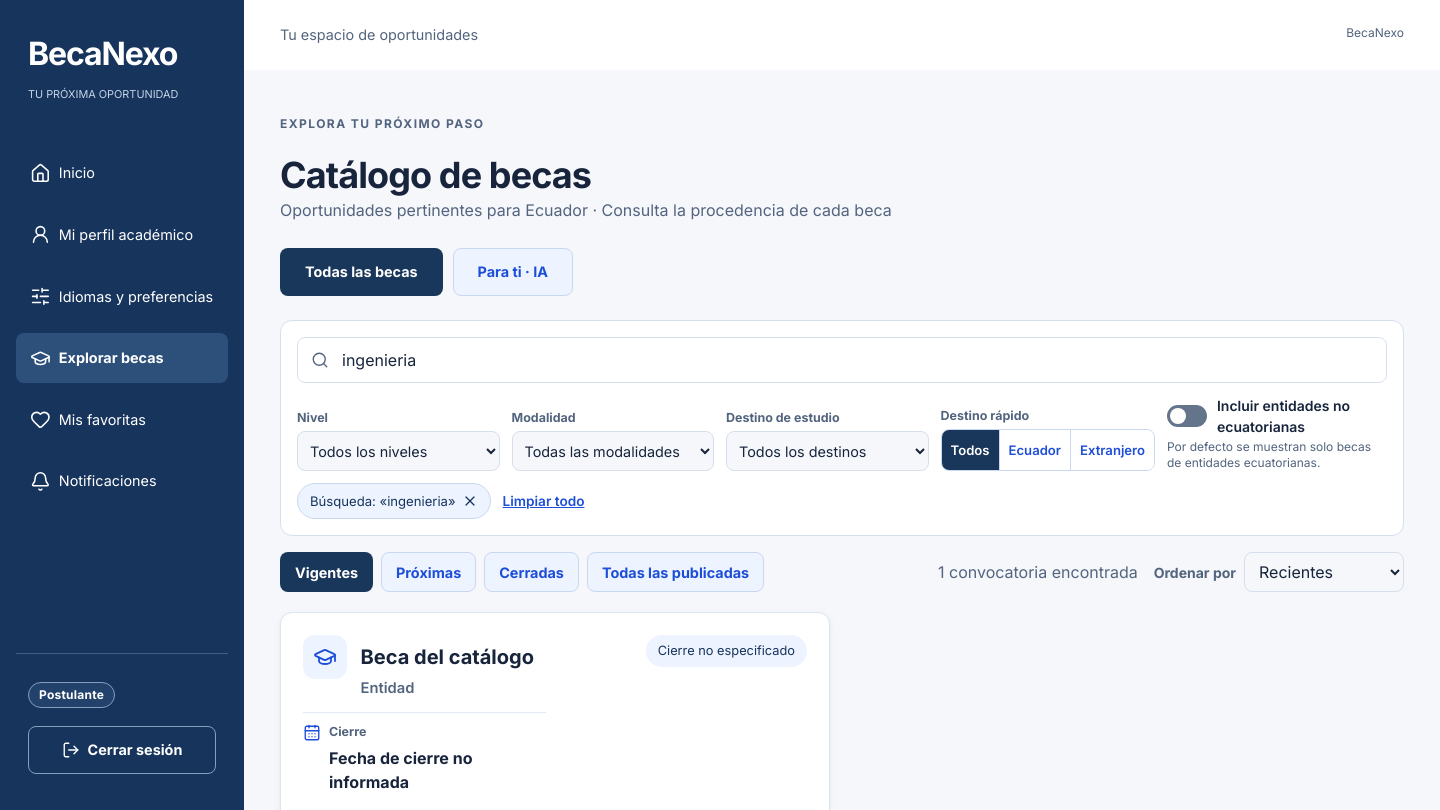
Test case: respeta el orden recibido y distingue afinidad pendiente de elegibilidad desconocida
This screenshot has width=1440, height=810.
Expected: the heading "Beca del catálogo" is shown, [361, 645, 534, 669]
Click the button "Para ti · IA": coordinates (513, 272) [453, 248, 573, 296]
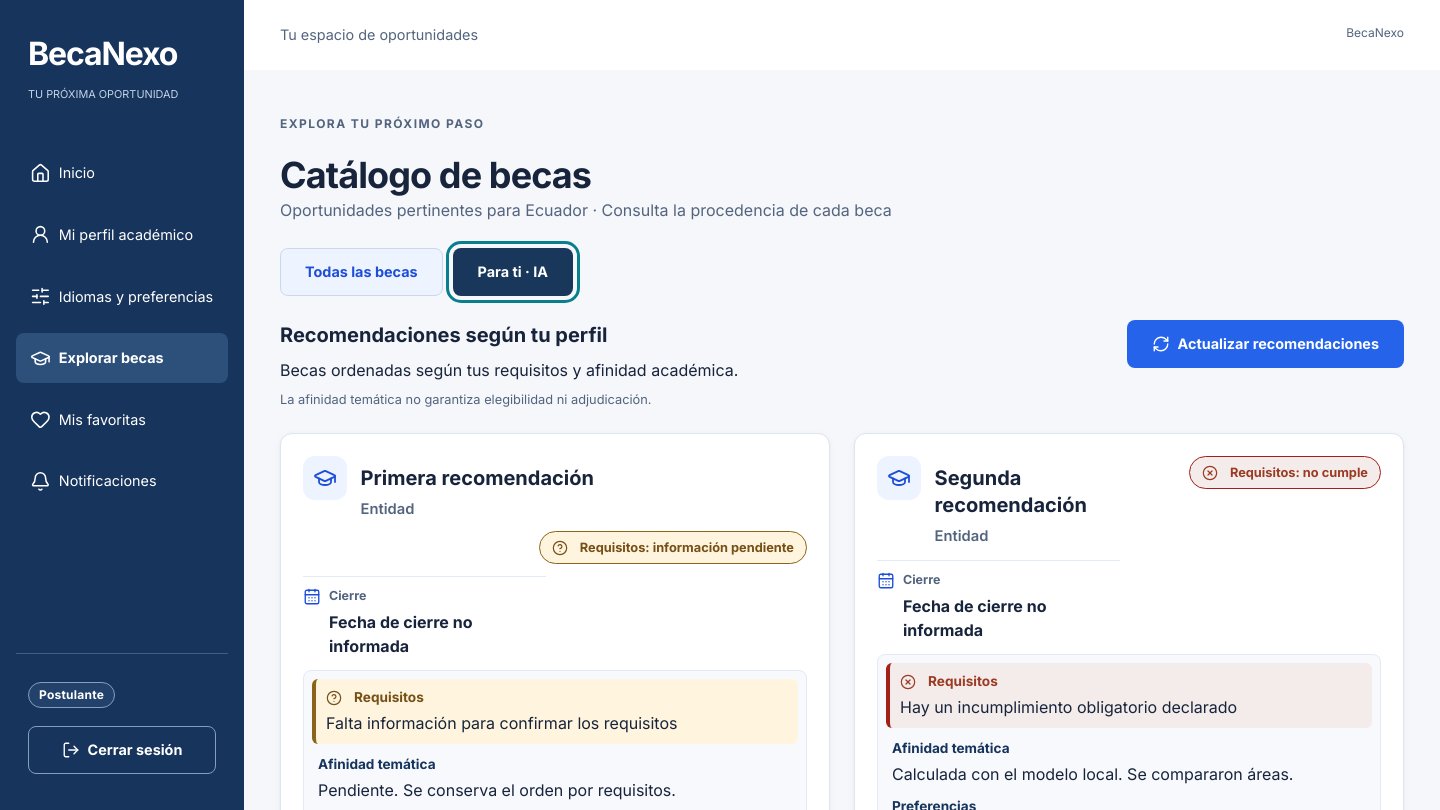
Now the heading "Primera recomendación" is shown, box [361, 466, 594, 490]
Now the element that starts with "Primera recomendación" shows "Requisitos: información pendiente", box [580, 540, 794, 555]
Now the element that starts with "Segunda recomendación" shows "Requisitos: no cumple", box [1230, 465, 1368, 480]
